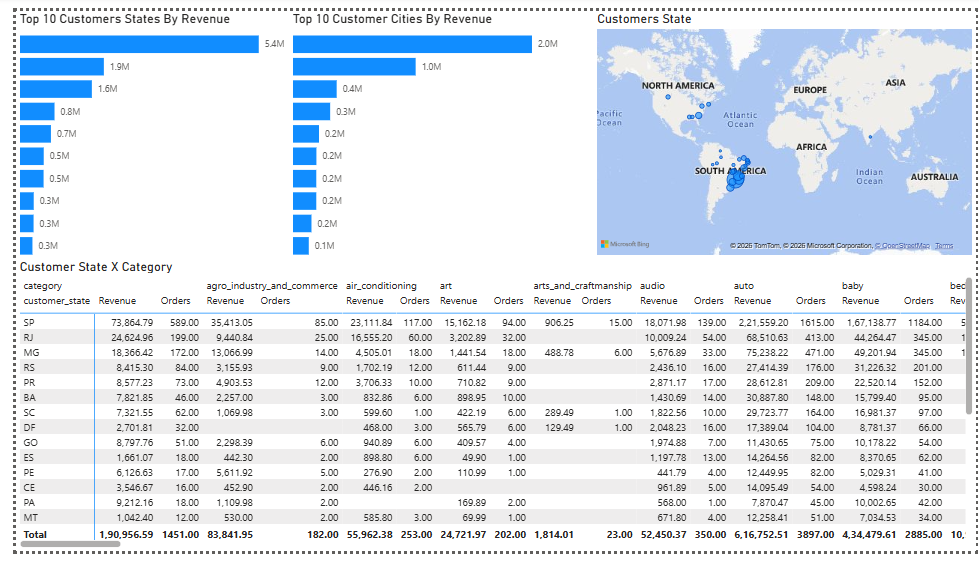

The dashboard page shown, as its layout file describes it:
{"tool":"powerbi","page":{"name":"Customers","canvas":[1280,720],"ordinal":3},"visuals":[{"type":"pivotTable","title":"Customer State X Category","fields":{"Values":["public bi_fact_sales.Revenue","public bi_fact_sales.Orders"],"Columns":["public bi_fact_sales.category"],"Rows":["public bi_fact_sales.customer_state"]},"box":[0,330,1280,390],"z":0},{"type":"barChart","title":"Top 10 Customers States By Revenue","fields":{"Y":["public bi_fact_sales.Revenue"],"Category":["public bi_fact_sales.customer_state"]},"box":[0,0,363.3,330],"z":1000},{"type":"map","title":"Customers State","fields":{"Category":["public bi_fact_sales.customer_state"],"Size":["public bi_fact_sales.Revenue"]},"box":[770,0,510,330],"z":2000},{"type":"barChart","title":"Top 10 Customer Cities By Revenue","fields":{"Y":["public bi_fact_sales.Revenue"],"Category":["public bi_fact_sales.customer_city"]},"box":[363.3,0,406.7,330],"z":3000}]}

Visuals, with their boxes on the page's 1280x720 design canvas (x1, y1, x2, y2). These are canvas units, not pixel positions in the 979x571 screenshot, which may show the page scaled, cropped or inside an application window:
"Customer State X Category" pivotTable: locate(0, 330, 1280, 720)
"Top 10 Customers States By Revenue" barChart: locate(0, 0, 363, 330)
"Customers State" map: locate(770, 0, 1280, 330)
"Top 10 Customer Cities By Revenue" barChart: locate(363, 0, 770, 330)
